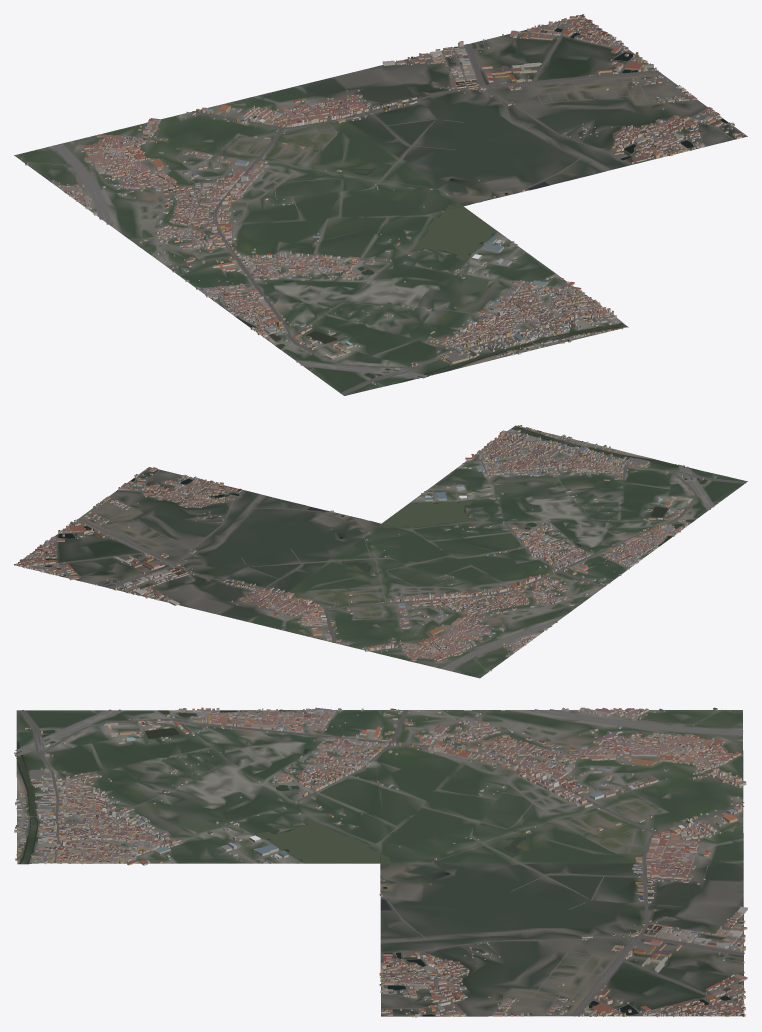
3 renders of one model, top to bottom at view 1: azimuth 30°, elevation 25°; view 2: azimuth 150°, elevation 25°; view 3: azimuth 270°, elevation 25°, orthographic. The views are drawn at different scales.
Parts seen in each view (by area): view 1: ground, buildings, roads, water; view 2: ground, buildings, roads, water; view 3: ground, buildings, roads, water.
Boxes of the visible parts, x1,y1,x2,y2 form: ground: [14, 18, 747, 395]; buildings: [21, 14, 744, 384]; roads: [23, 19, 747, 394]; water: [205, 28, 727, 382]; ground: [16, 425, 747, 678]; buildings: [14, 425, 716, 674]; roads: [21, 430, 746, 672]; water: [45, 426, 707, 576]; ground: [16, 710, 744, 1016]; buildings: [14, 707, 747, 1017]; roads: [15, 709, 744, 1016]; water: [14, 710, 743, 1016].
Bounding box in the file's own units: 2817 × 34.58 × 2833.
